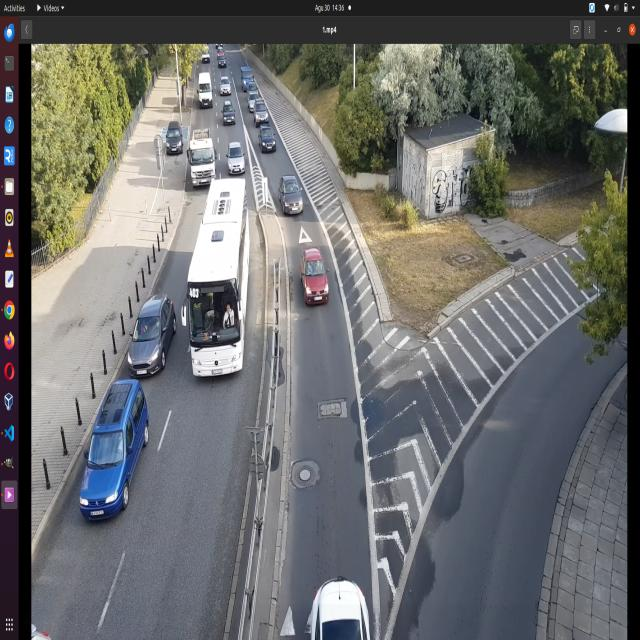person_with_seatbelt: (220, 302, 240, 344), (138, 317, 150, 339)
